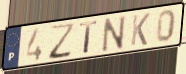0: (156, 8, 178, 45)
4: (26, 26, 44, 63)
K: (129, 12, 151, 48)
N: (101, 13, 127, 54)
T: (79, 19, 99, 55)
Z: (48, 20, 77, 61)
